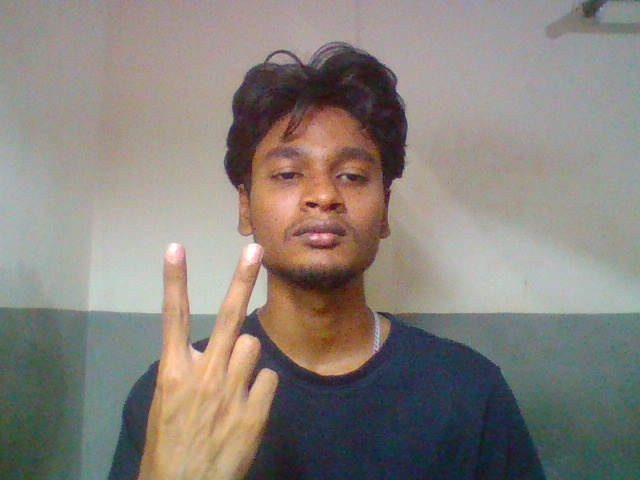V: (128, 231, 288, 480)
